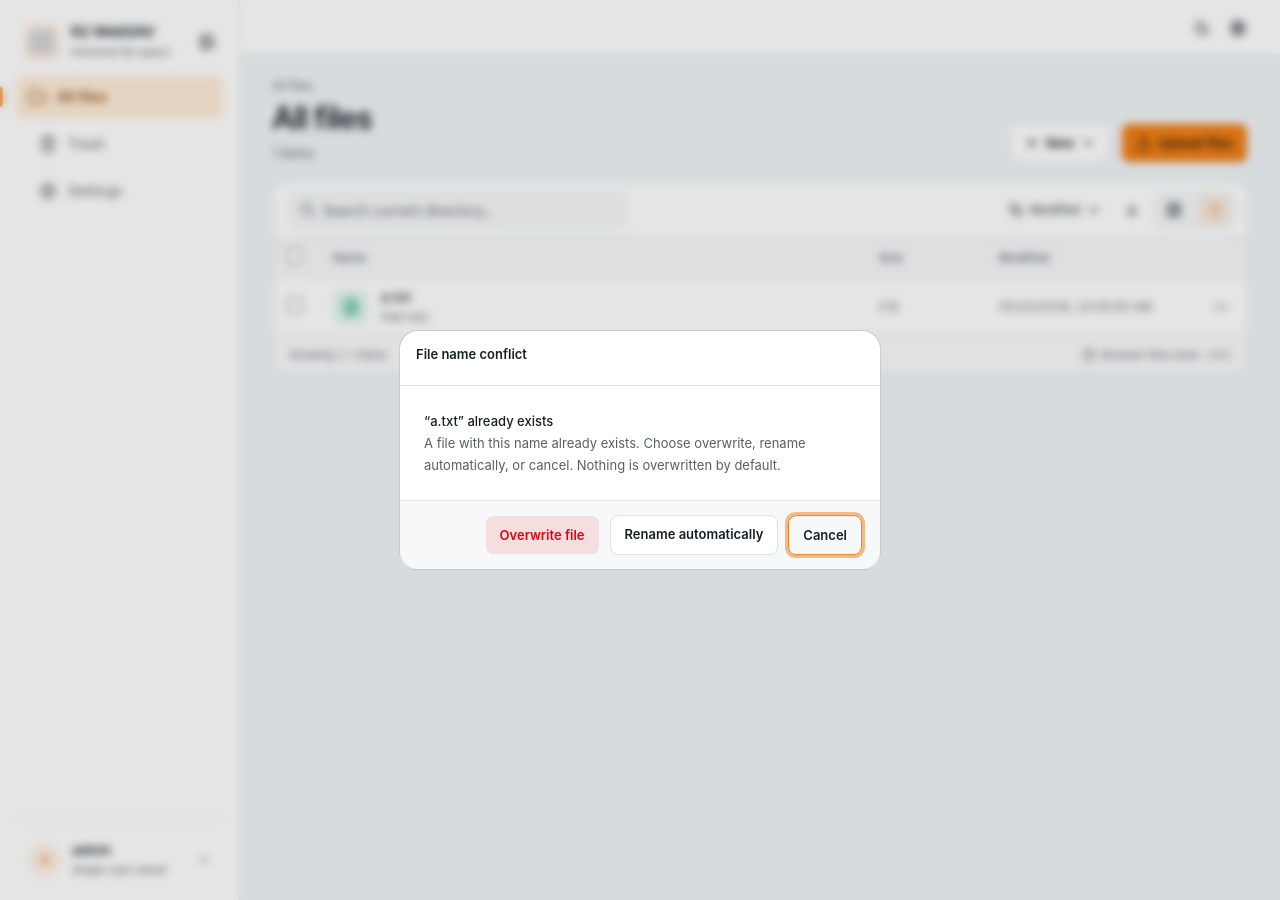
FilesPage › shows only actual conflicts in a mixed batch and cancels the whole batch
Earlier steps of the test are not shown.
Later steps or results of the test are not shown.
Expected: the dialog shows "a.txt", top-left (424, 413), bottom-right (553, 429)
Expected: the dialog does not show "unique.txt", top-left (400, 331), bottom-right (880, 569)
Step 1. Click the button "Cancel" → (825, 535), box top-left (788, 515), bottom-right (862, 555)
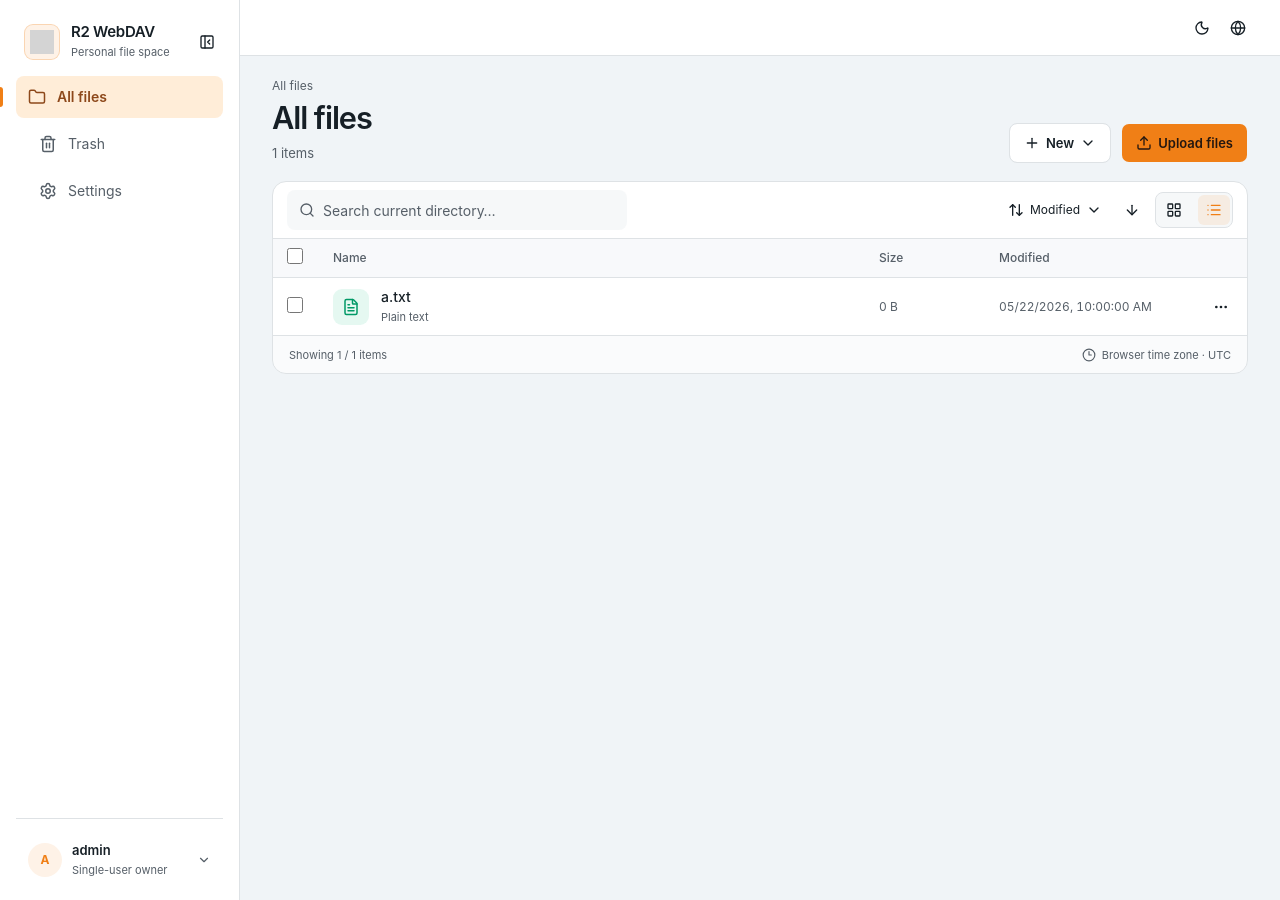
Expected: the dialog is gone
